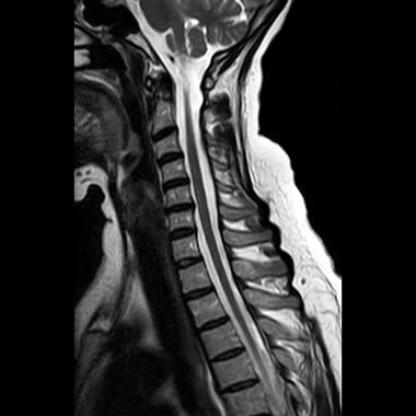Annular Disc Relaxationrotation: (162, 176, 192, 192)
Disc Bulgerotation: (165, 200, 195, 219)
Osteophytesrotation: (165, 200, 195, 218)
